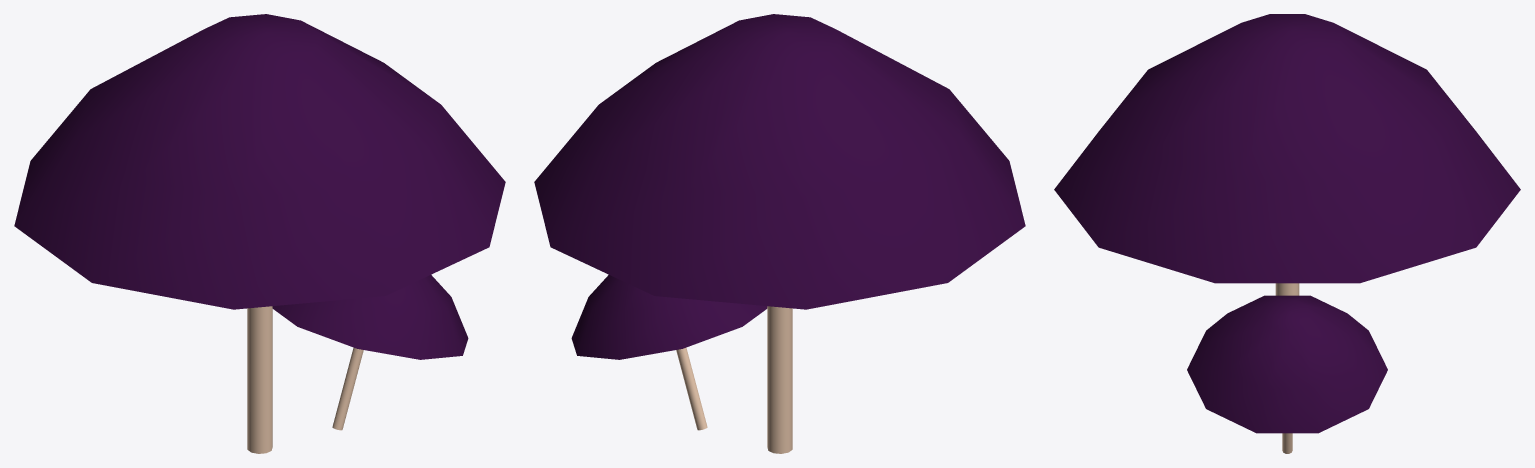
The model's file is cogumas_double_arrumadofbx (1).fbx.
The picture shows the model from 3 angles, left to right: view 1: azimuth 30°, elevation 25°; view 2: azimuth 150°, elevation 25°; view 3: azimuth 270°, elevation 25°; orthographic projection. The views are drawn at different scales.
Parts seen in each view (by area): view 1: Cylinder; view 2: Cylinder; view 3: Cylinder.
Part boxes in pixels (x1,y1,x2,y2): Cylinder: [14, 14, 505, 453]; Cylinder: [534, 14, 1025, 453]; Cylinder: [1054, 14, 1520, 453].
Size of the model in its own units: 1698 by 1637 by 1785.
